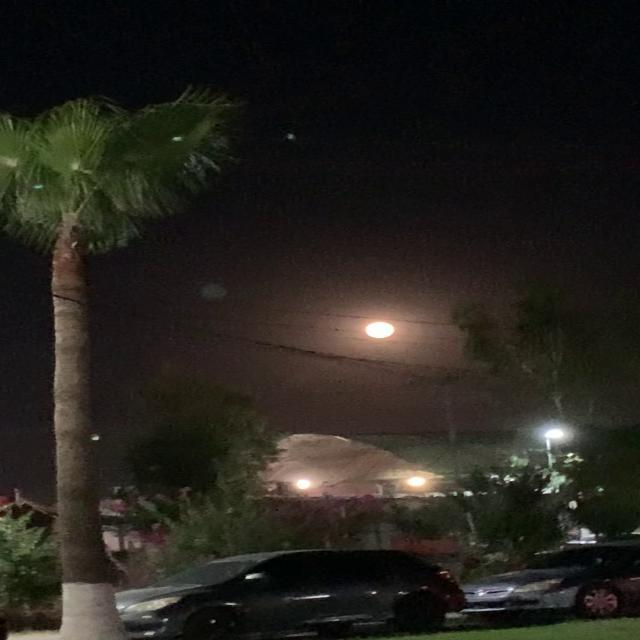moon: (362, 316, 414, 342)
